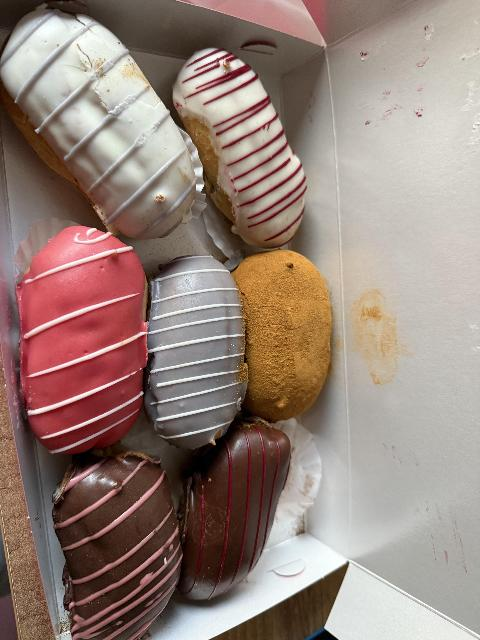Organik: (2, 18, 202, 236), (170, 39, 314, 243), (13, 231, 148, 445), (162, 438, 297, 627), (48, 444, 175, 640), (231, 234, 352, 422), (152, 240, 249, 441)
